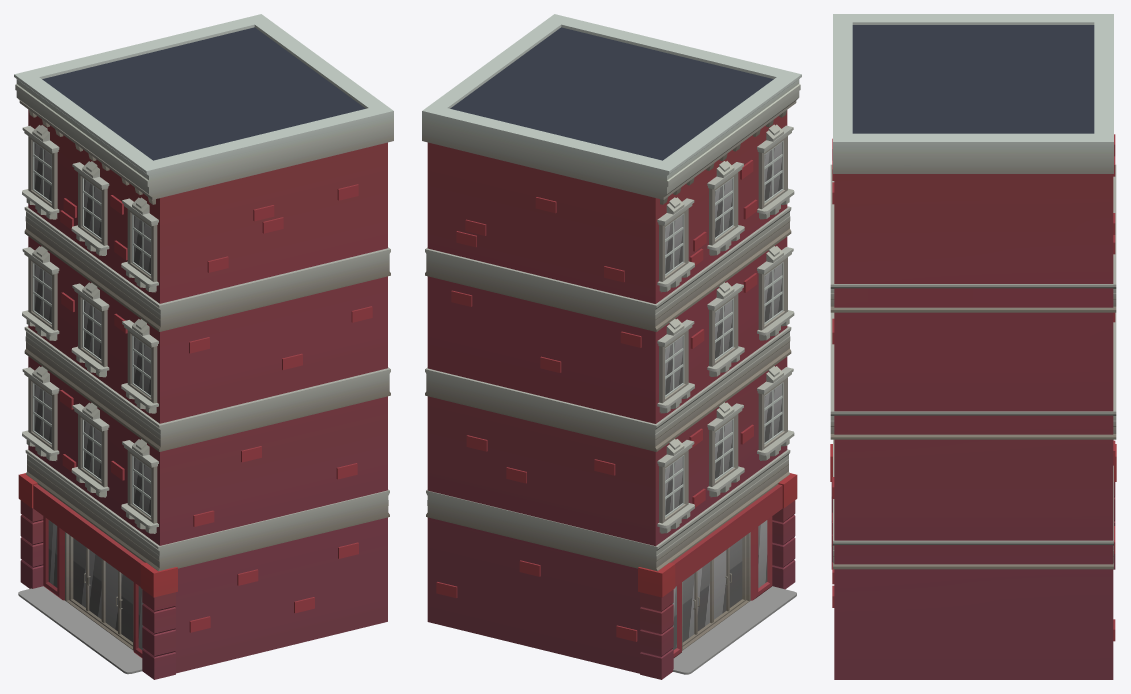
The model's file is Building_21_2_F.fbx.
3 renders of one model, left to right at view 1: azimuth 30°, elevation 25°; view 2: azimuth 150°, elevation 25°; view 3: azimuth 270°, elevation 25°, orthographic. The views are drawn at different scales.
Visible parts, largest first — view 1: Building_21_2_F; view 2: Building_21_2_F; view 3: Building_21_2_F.
Part boxes in pixels (box(x1,y1,x2,y2)): Building_21_2_F: box(14, 14, 393, 679); Building_21_2_F: box(422, 14, 801, 679); Building_21_2_F: box(830, 14, 1116, 679).
Bounding box in the file's own units: 779 × 1485 × 713.
